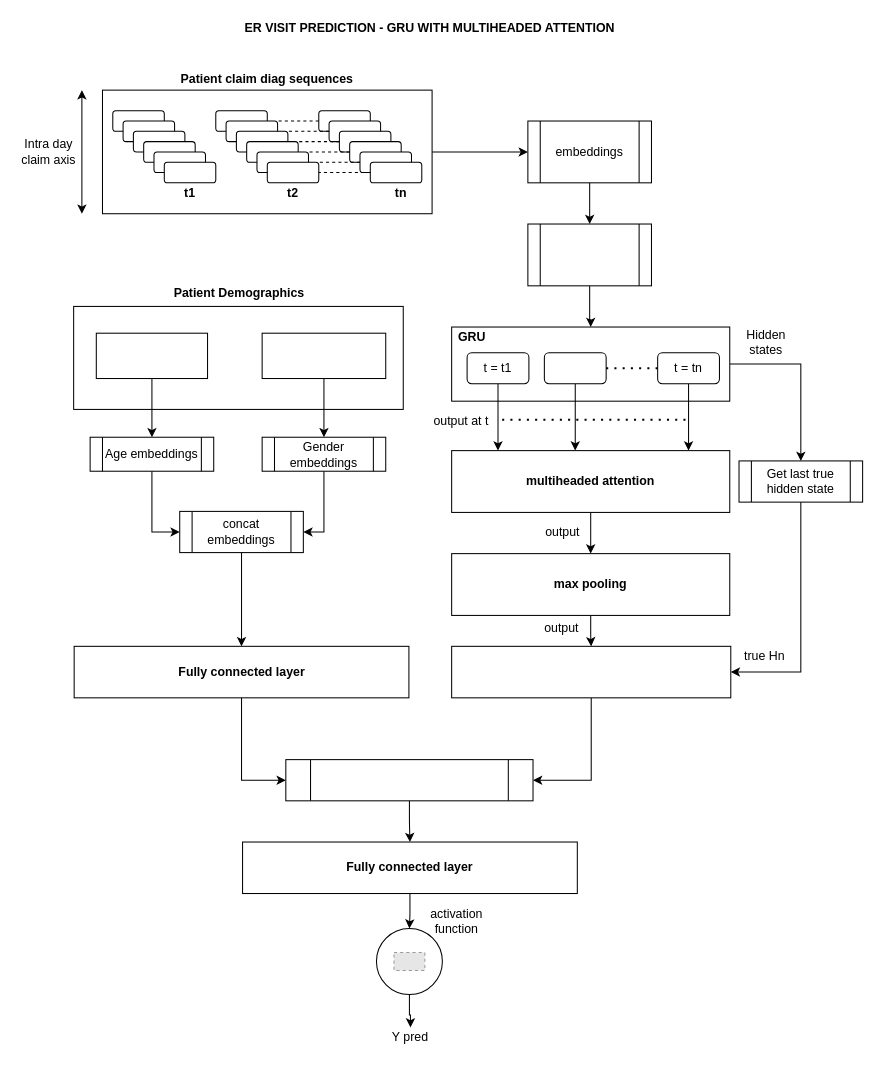
This 881x1065 diagram has some shape labels left out. Grey dashed boxes stand in for pictures. The shapes that lost their labels are listed below. From the top down, each one's centre as x and y in pixels, then its label:
At point (589, 254): "sum embeddings using mask".
At point (151, 355): "Age".
At point (323, 355): "Gender".
At point (574, 368): "t = t2".
At point (591, 671): "Apply attention to the last true hidden state".
At point (409, 780): "concatenate outputs".
